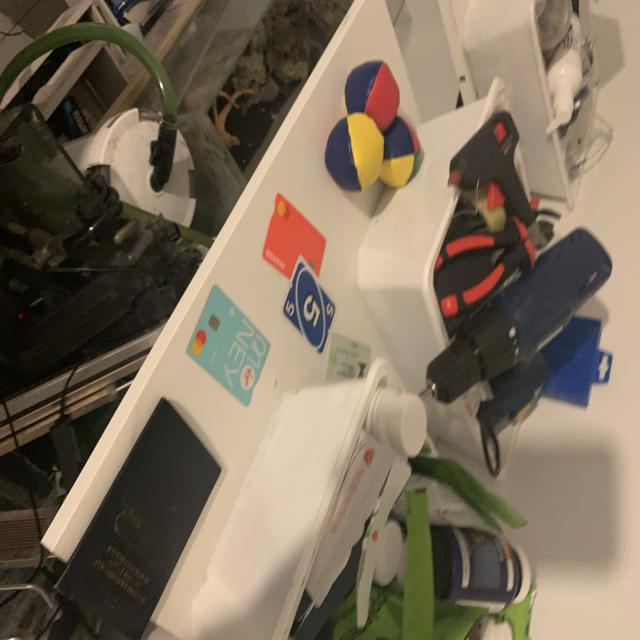lblue-5: (324, 294, 336, 323)
